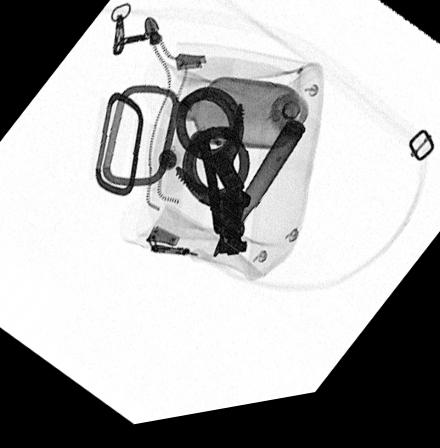Bullet: (213, 131, 304, 263)
Gun: (198, 145, 252, 247)
HandCuffs: (170, 89, 254, 265)
